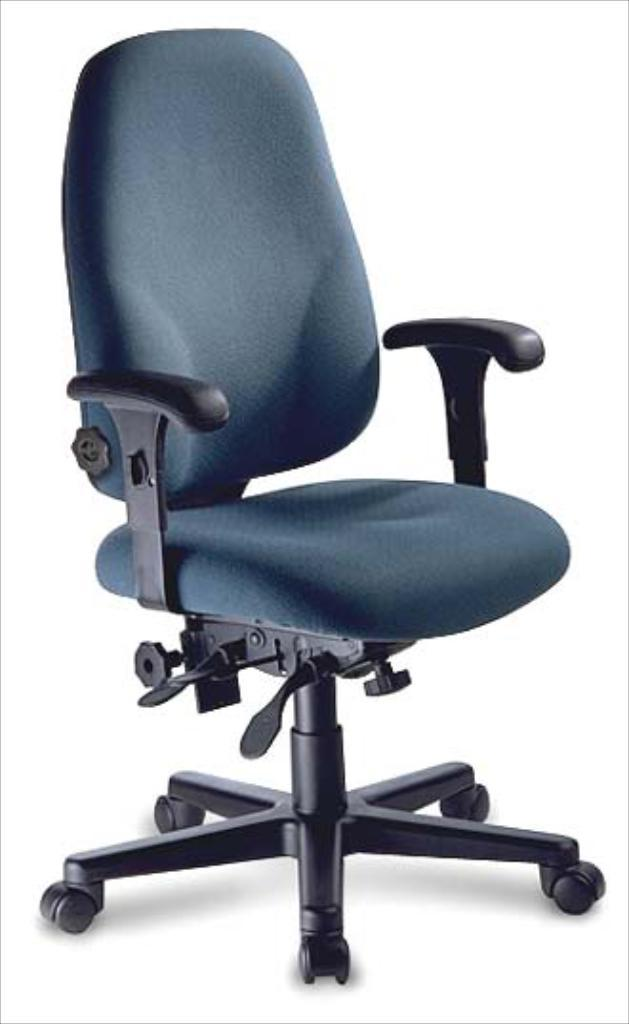Chair: (30, 25, 610, 986)
